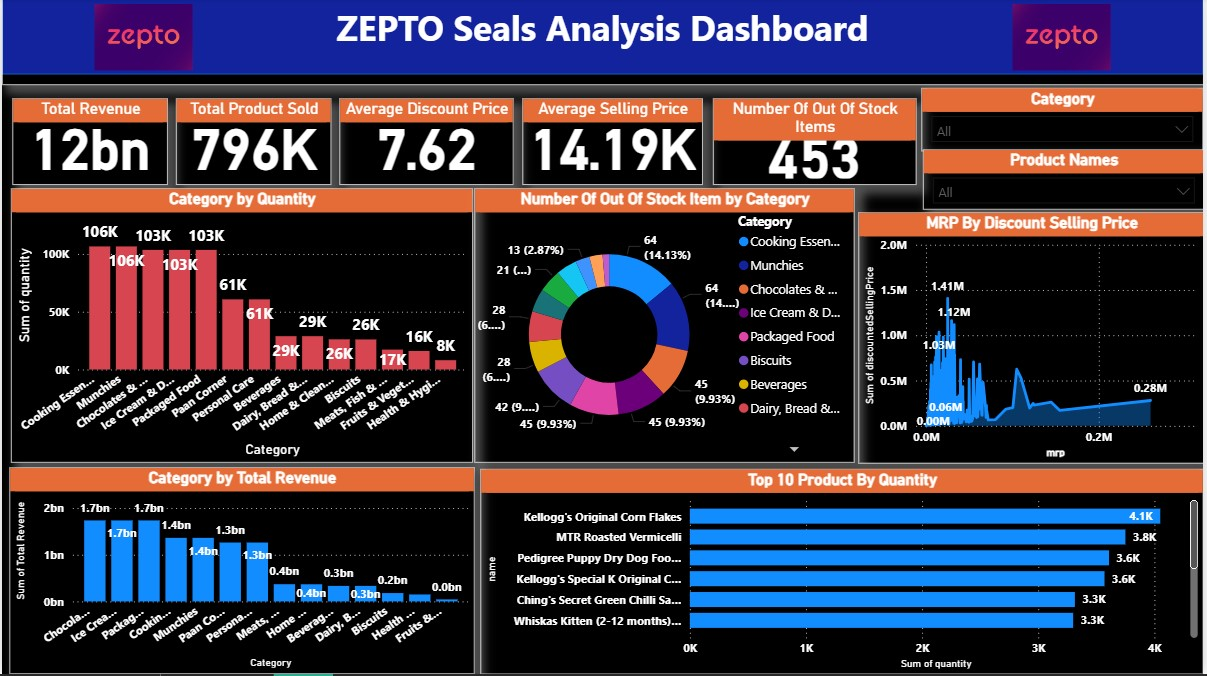

What the dashboard file says about the page in this screenshot:
{"tool":"powerbi","page":{"name":"Page 1","canvas":[1280,720],"ordinal":0},"visuals":[{"type":"shape","box":[0,0,1279.7,81.5],"z":0},{"type":"textbox","box":[0,0,1279.7,92.7],"z":1000},{"type":"image","box":[95.1,6.6,109.8,70.5],"z":2000},{"type":"card","title":"Total Revenue","fields":{"Values":["Sum(Sheet1.Total Revenue)"]},"box":[11.5,106.6,165.6,91.8],"z":3000},{"type":"card","title":"Total Product Sold","fields":{"Values":["Sum(Sheet1.quantity)"]},"box":[185.2,106.6,165.6,91.8],"z":4000},{"type":"card","title":"Average Discount Price","fields":{"Values":["Avg(Sheet1.discountPercent)"]},"box":[359,106.6,185.2,91.8],"z":5000},{"type":"card","title":"Average Selling Price","fields":{"Values":["Avg(Sheet1.discountedSellingPrice)"]},"box":[554.1,106.6,191.8,91.8],"z":6000},{"type":"card","title":"Number Of Out Of Stock Items","fields":{"Values":["Sheet1.Number Of Out Of Stock Item"]},"box":[757.4,106.6,216.4,91.8],"z":7000},{"type":"slicer","title":"Category","fields":{"Values":["Sheet1.Category"]},"box":[980,95.1,300,67.2],"z":8000},{"type":"slicer","title":"Product Names","fields":{"Values":["Sheet1.name"]},"box":[980.3,160.7,300,63.9],"z":9000},{"type":"columnChart","title":"Category by Quantity","fields":{"Category":["Sheet1.Category"],"Y":["Sum(Sheet1.quantity)"]},"box":[9.8,203.3,491.8,291.8],"z":10000},{"type":"donutChart","fields":{"Category":["Sheet1.Category"],"Y":["Sheet1.Number Of Out Of Stock Item"]},"box":[503.3,203.3,404.9,291.8],"z":11000},{"type":"areaChart","title":"MRP By Discount Selling Price","fields":{"Category":["Sheet1.mrp"],"Y":["Sum(Sheet1.discountedSellingPrice)"]},"box":[911.5,227.9,368.9,267.2],"z":12000},{"type":"columnChart","title":"Category by Total Revenue","fields":{"Category":["Sheet1.Category"],"Y":["Sum(Sheet1.Total Revenue)"]},"box":[8.2,500,495.1,219.7],"z":13000},{"type":"barChart","title":"Top 10 Product By Quantity","fields":{"Category":["Sheet1.name"],"Y":["Sum(Sheet1.quantity)"]},"box":[509.7,501.7,770.1,218.9],"z":14000},{"type":"image","box":[1073.8,6.6,109.8,70.5],"z":15000}]}

Visuals, with their boxes in screenshot pixels (x1, y1, x2, y2), scaled from the page's 1280x720 canvas onto the 1207x676 screenshot:
shape: 0/0/1206/77
textbox: 0/0/1206/87
image: 90/6/193/72
"Total Revenue" card: 11/100/167/186
"Total Product Sold" card: 175/100/331/186
"Average Discount Price" card: 339/100/513/186
"Average Selling Price" card: 522/100/703/186
"Number Of Out Of Stock Items" card: 714/100/918/186
"Category" slicer: 924/89/1206/152
"Product Names" slicer: 924/151/1206/211
"Category by Quantity" columnChart: 9/191/473/465
donutChart - Sheet1.Category x Sheet1.Number Of Out Of Stock Item: 475/191/856/465
"MRP By Discount Selling Price" areaChart: 860/214/1206/465
"Category by Total Revenue" columnChart: 8/469/475/675
"Top 10 Product By Quantity" barChart: 481/471/1206/675
image: 1013/6/1116/72
